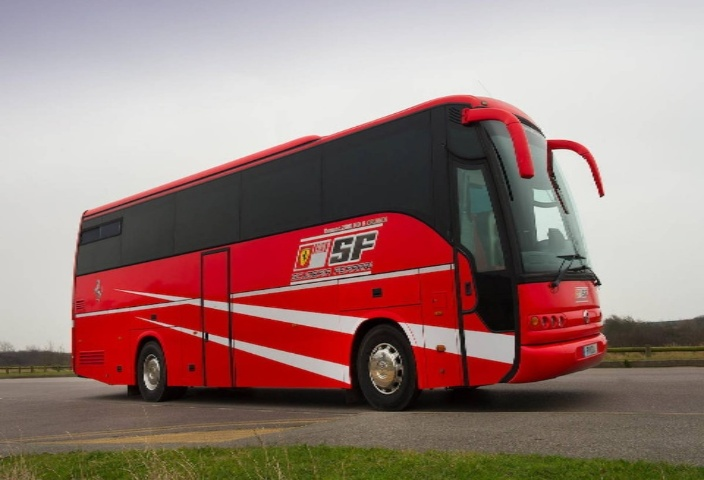bus: (74, 90, 608, 413)
